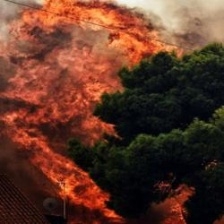fire: (3, 2, 198, 224)
